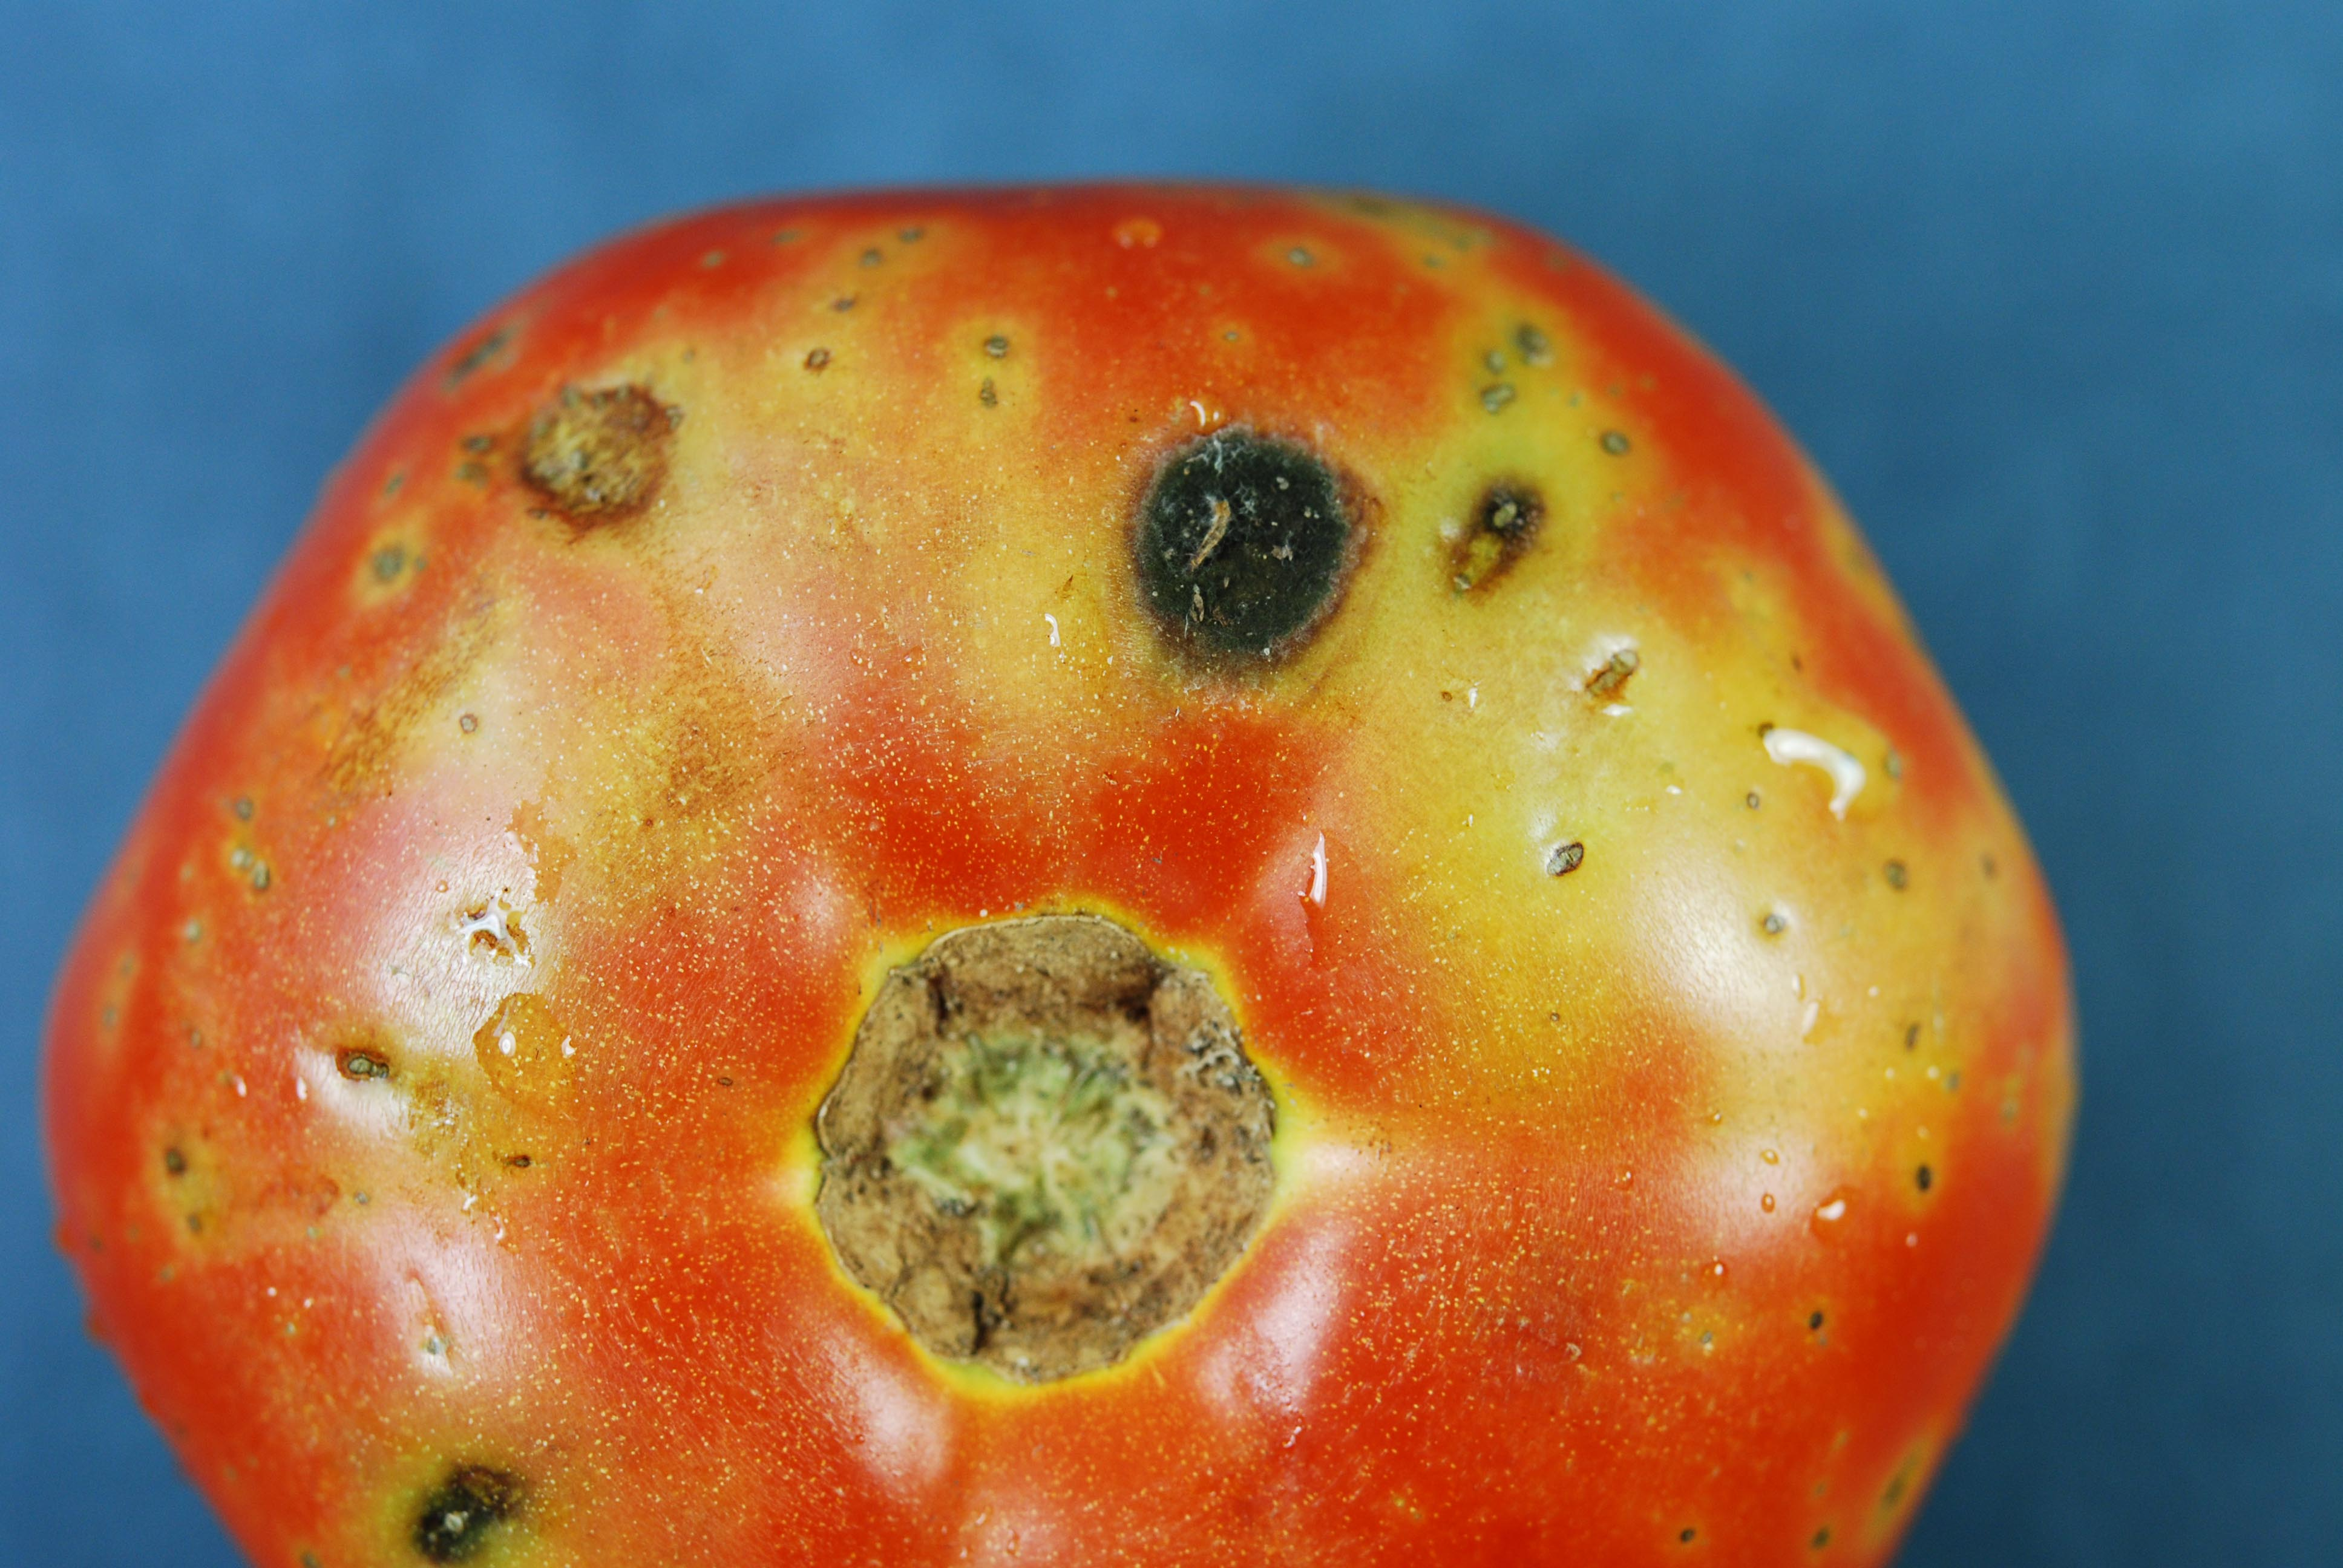anthracnose: (712, 821, 1493, 1531), (1060, 390, 1465, 758), (464, 364, 782, 618)
